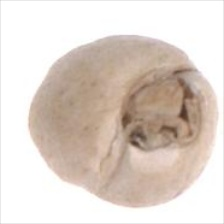L3: (119, 69, 201, 156)
L4: (29, 34, 218, 208)
